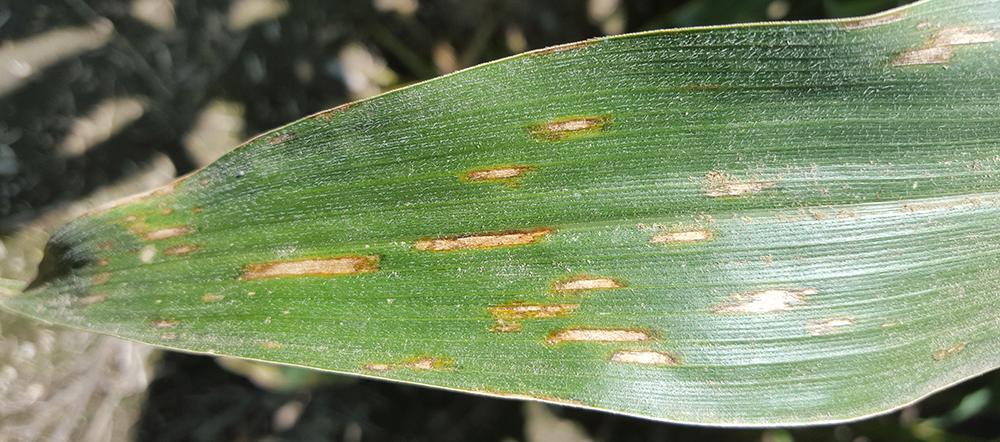Corn_Blight: (400, 96, 661, 442), (44, 164, 236, 382), (668, 162, 876, 363), (249, 226, 391, 289)
